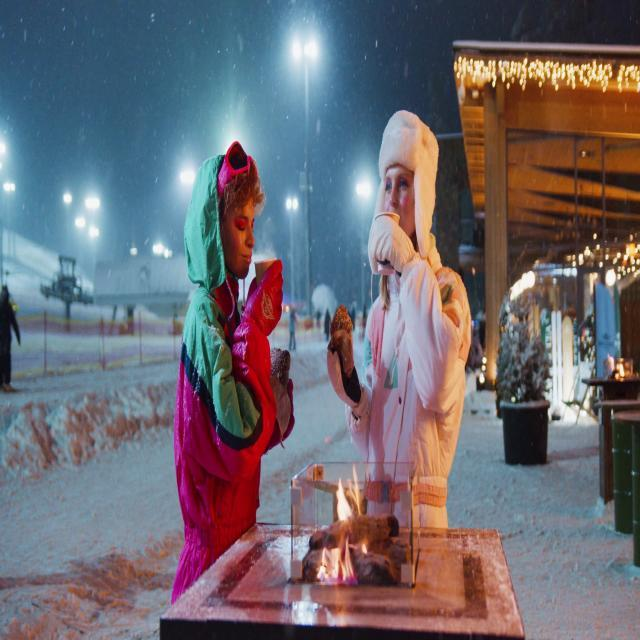Fire: (314, 465, 372, 592)
